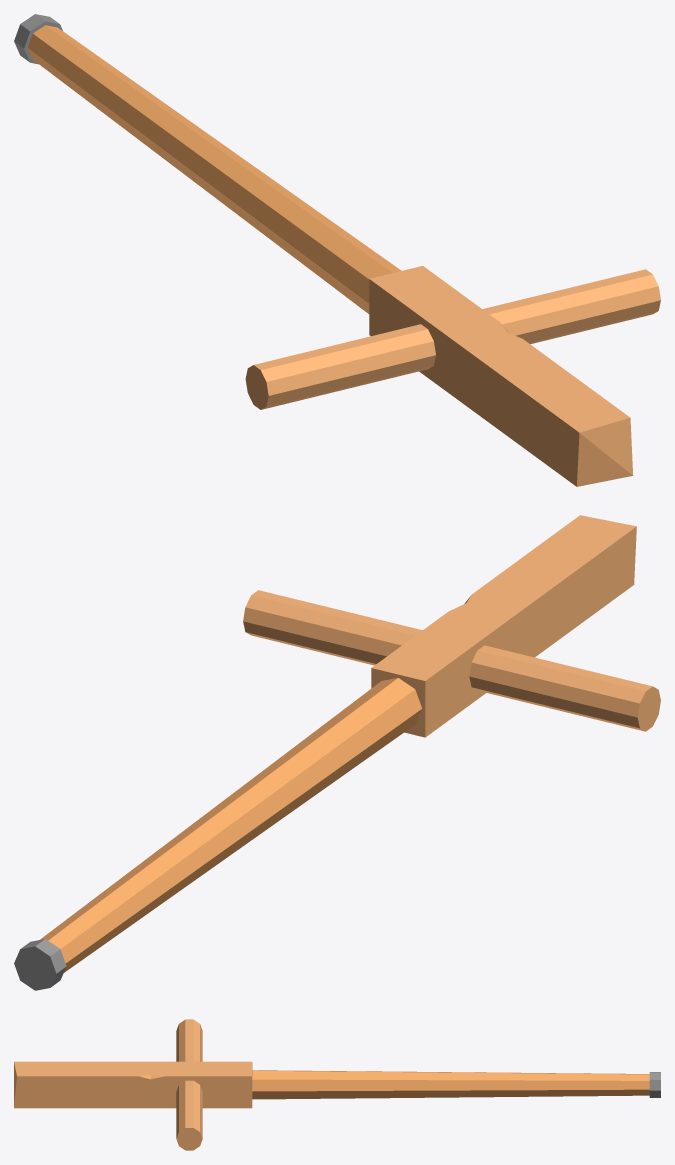
Rendered from trenuchet.arm.fbx.
The picture shows the model from 3 angles, top to bottom: view 1: azimuth 30°, elevation 25°; view 2: azimuth 150°, elevation 25°; view 3: azimuth 270°, elevation 25°; orthographic projection. The views are drawn at different scales.
Parts seen in each view (by area): view 1: trenuchet.arm; view 2: trenuchet.arm; view 3: trenuchet.arm.
Part boxes in pixels (x1,y1,x2,y2): trenuchet.arm: (14, 14, 660, 486); trenuchet.arm: (14, 515, 660, 990); trenuchet.arm: (14, 1019, 660, 1150).
Size of the model in its own units: 2.77 by 0.3794 by 6.99.
